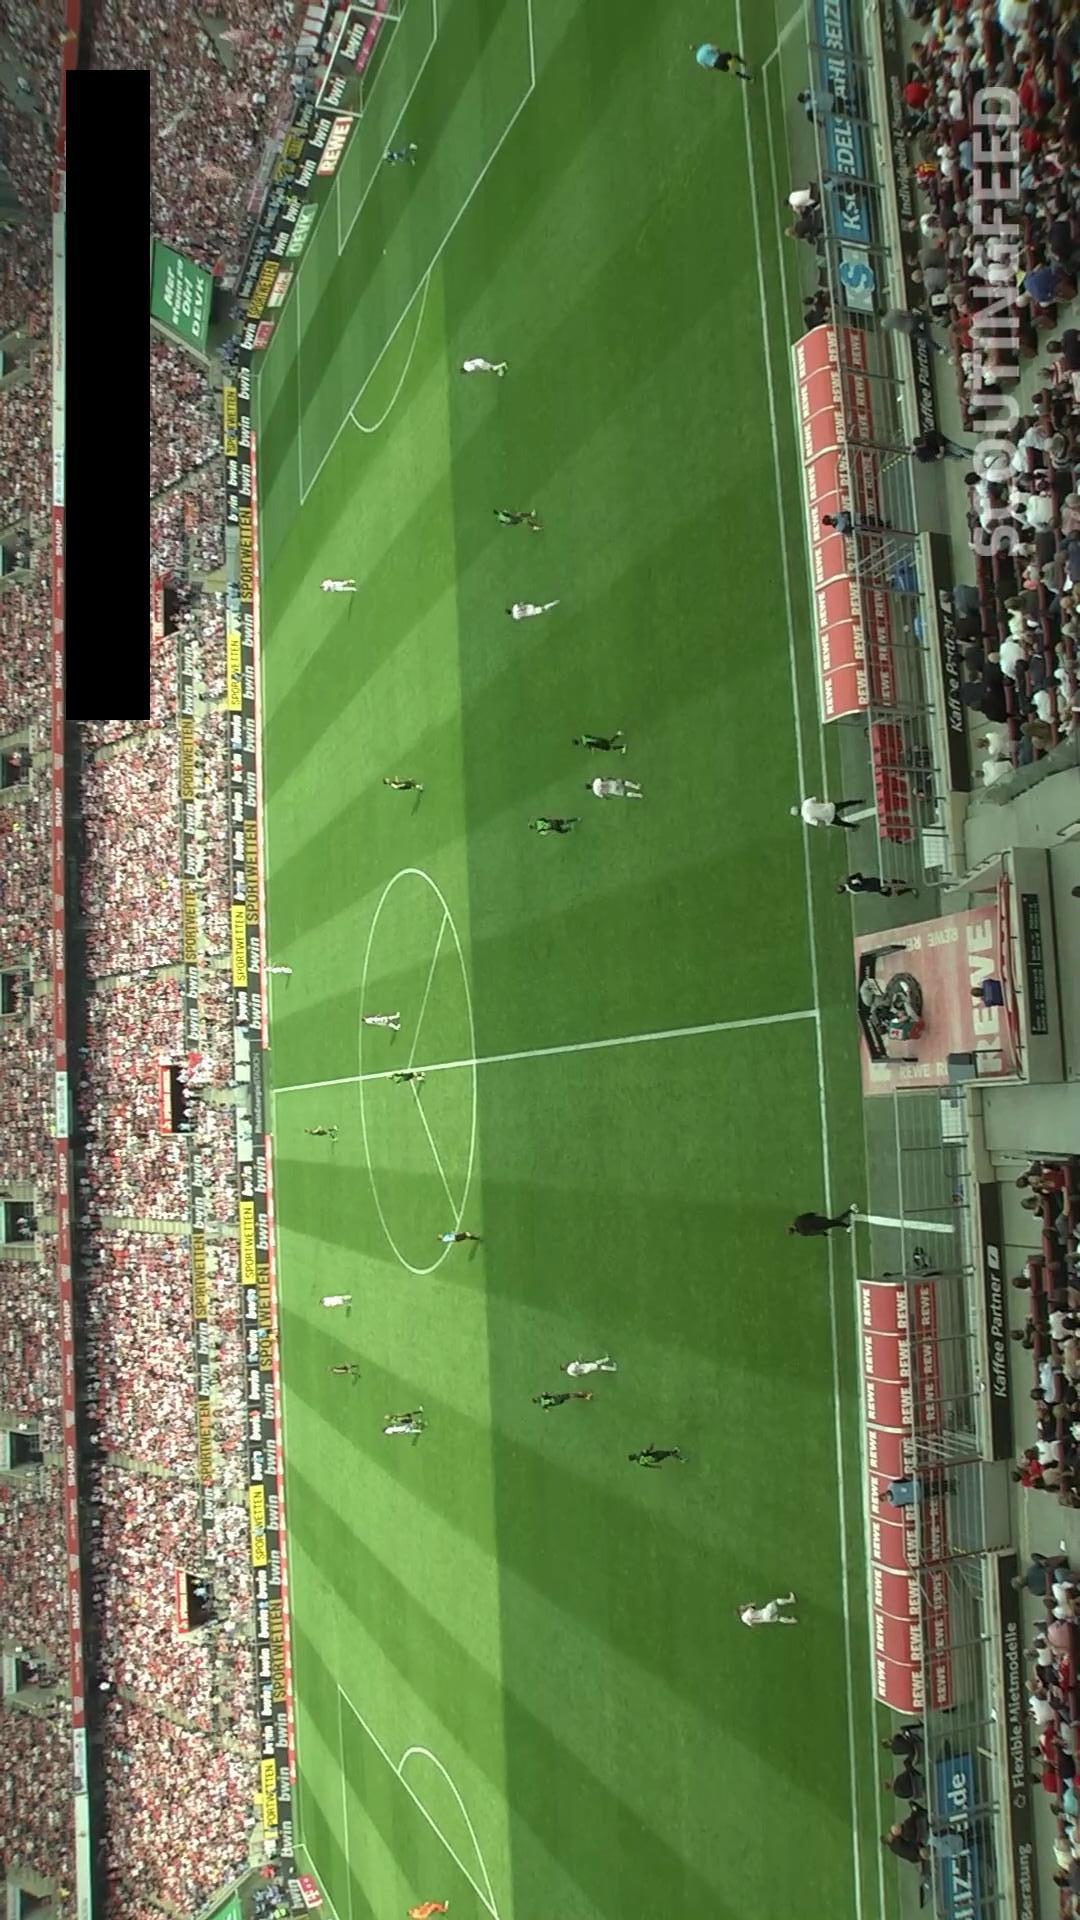ball: (495, 369, 507, 378)
goalkeeper: (379, 141, 421, 168), (406, 1900, 448, 1919)
player: (733, 1591, 798, 1628), (627, 1442, 687, 1469), (583, 777, 644, 800), (530, 1390, 594, 1411), (571, 730, 626, 754), (559, 1355, 617, 1377), (503, 599, 561, 620), (527, 815, 580, 836), (491, 507, 541, 529), (459, 358, 507, 377), (361, 1012, 401, 1031), (382, 1406, 424, 1423), (381, 775, 423, 791), (382, 1421, 425, 1436), (318, 578, 358, 593), (388, 1070, 425, 1085), (317, 1294, 352, 1308), (303, 1125, 337, 1138), (326, 1364, 359, 1377), (262, 964, 293, 975)
referee: (688, 42, 755, 82), (435, 1230, 481, 1245), (250, 1326, 283, 1340)
